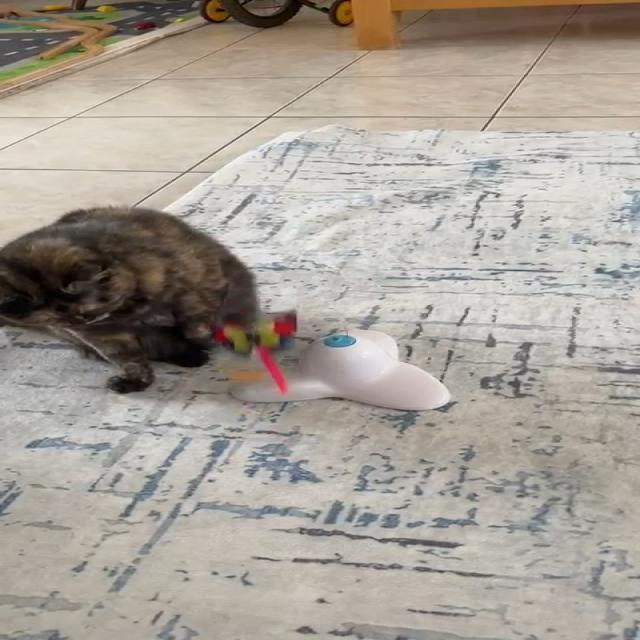authorized: (0, 204, 260, 393)
